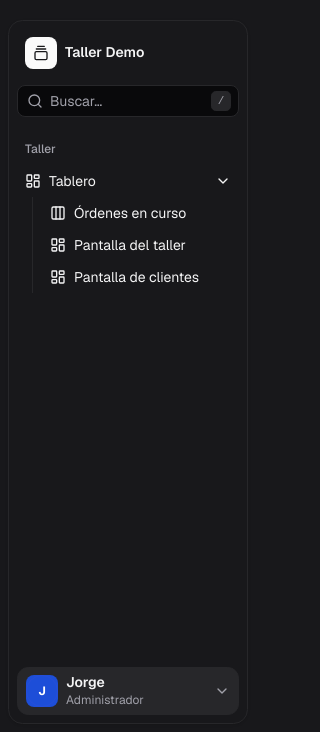
Test: AppSidebar — Tablero parent › in the expanded sidebar the Tablero parent collapses its three children
The width and height of the screenshot is (320, 732).
expect the link "Pantalla de clientes" is shown: met, box [42, 263, 215, 291]
Click the button "Tablero" at x=128, y=181, box [17, 165, 239, 197]
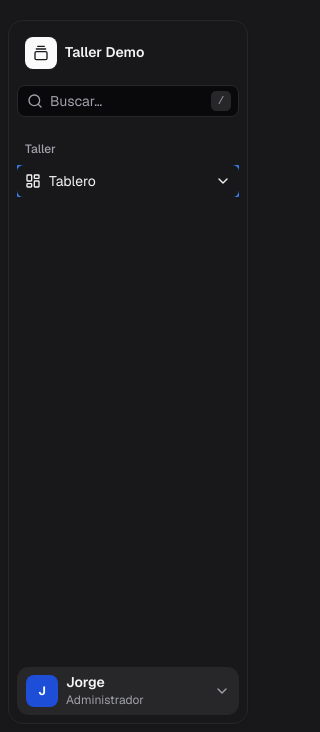
expect the link "Pantalla de clientes" is gone: met
